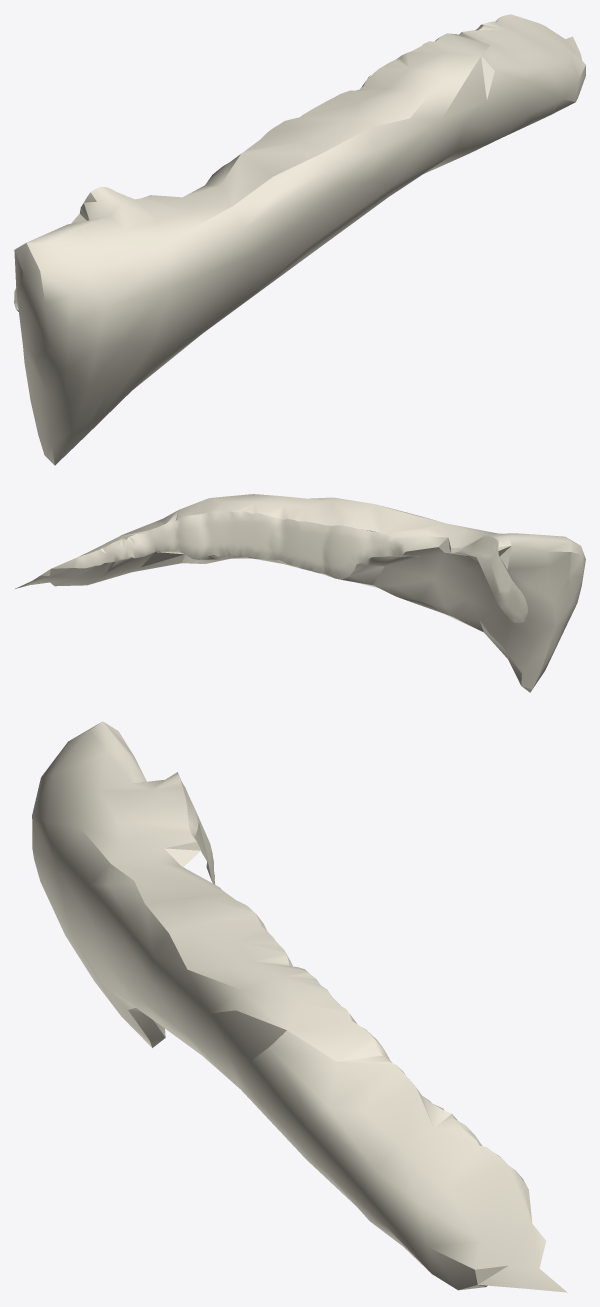
The model's file is fma54388_mm2052.glb.
The picture shows the model from 3 angles, top to bottom: view 1: azimuth 30°, elevation 25°; view 2: azimuth 150°, elevation 25°; view 3: azimuth 270°, elevation 25°; orthographic projection. The views are drawn at different scales.
Visible parts, largest first — view 1: FMA54388_MM2052; view 2: FMA54388_MM2052; view 3: FMA54388_MM2052.
Part boxes in pixels (box(x1,y1,x2,y2)): FMA54388_MM2052: box(14, 14, 585, 465); FMA54388_MM2052: box(15, 494, 585, 692); FMA54388_MM2052: box(32, 721, 567, 1292).
Bounding box in the file's own units: 0.0396 × 0.013 × 0.0205.
